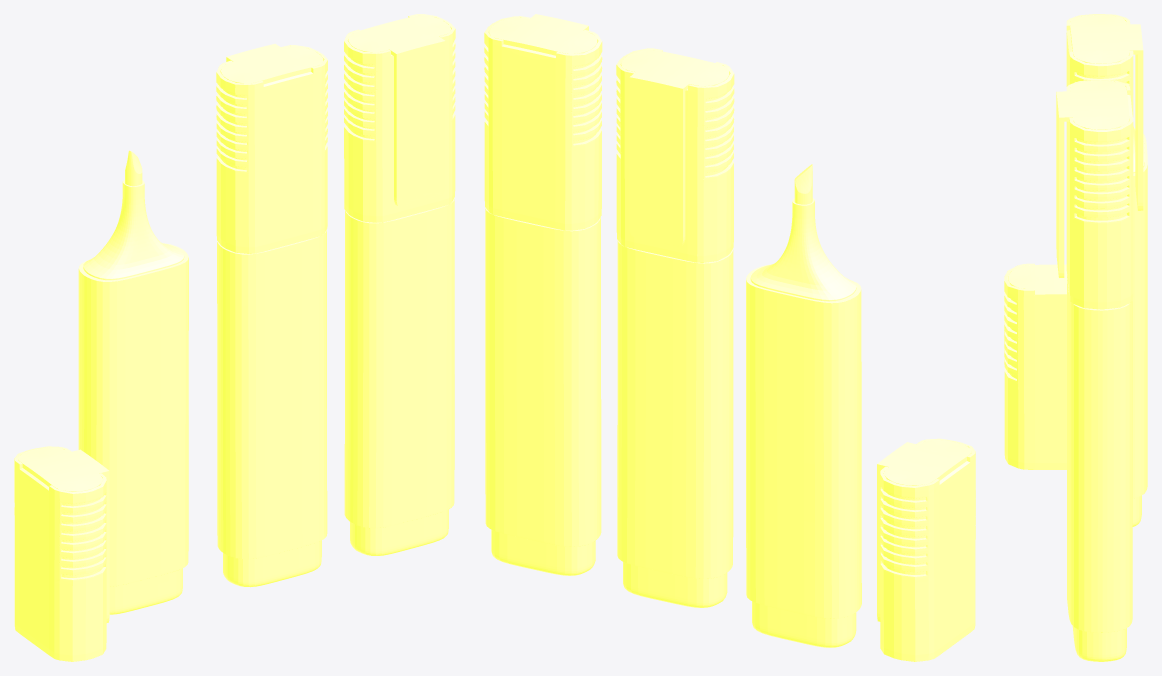
3 renders of one model, left to right at view 1: azimuth 30°, elevation 25°; view 2: azimuth 150°, elevation 25°; view 3: azimuth 270°, elevation 25°, orthographic. The views are drawn at different scales.
Visible parts, largest first — view 1: highlight_markers; view 2: highlight_markers; view 3: highlight_markers.
Boxes of the visible parts, x1,y1,x2,y2 form: highlight_markers: (14, 14, 455, 661); highlight_markers: (484, 14, 975, 661); highlight_markers: (1004, 14, 1147, 661).
Size of the model in its own units: 10.7 by 12.06 by 2.91.
